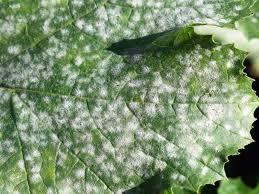Bok-Choy-Diseased: (13, 17, 259, 194)
